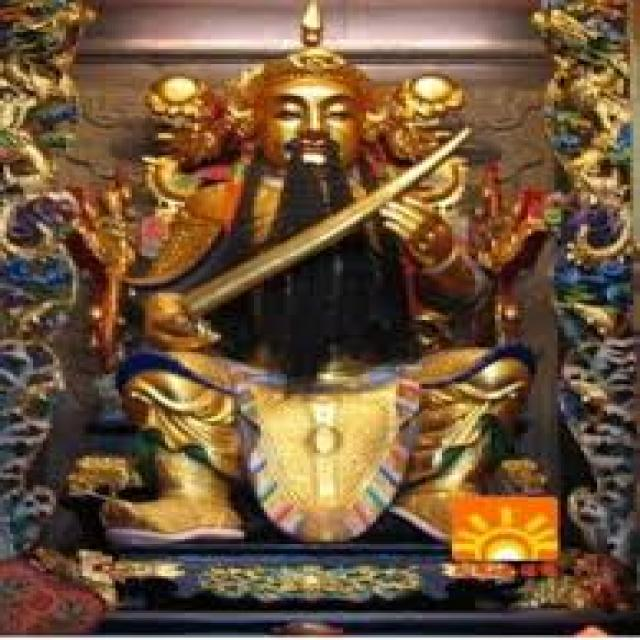Xuan wu: (142, 45, 501, 497)
